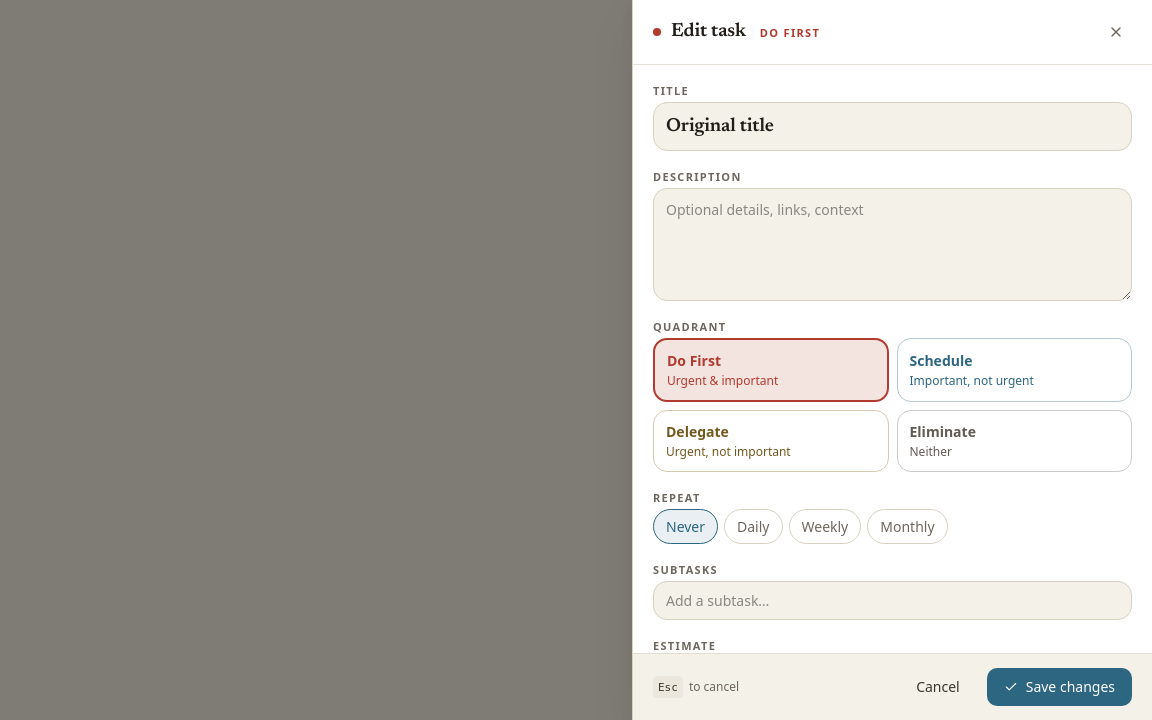
Scenario: <EditDrawer> › dependencies field › should_block_submit_and_show_inline_error_when_dependencies_would_cycle_at_save
This screenshot has width=1152, height=720.
Click the button "Save changes" at [1059, 687], box left=987, top=668, right=1132, bottom=706
(page scrolled)
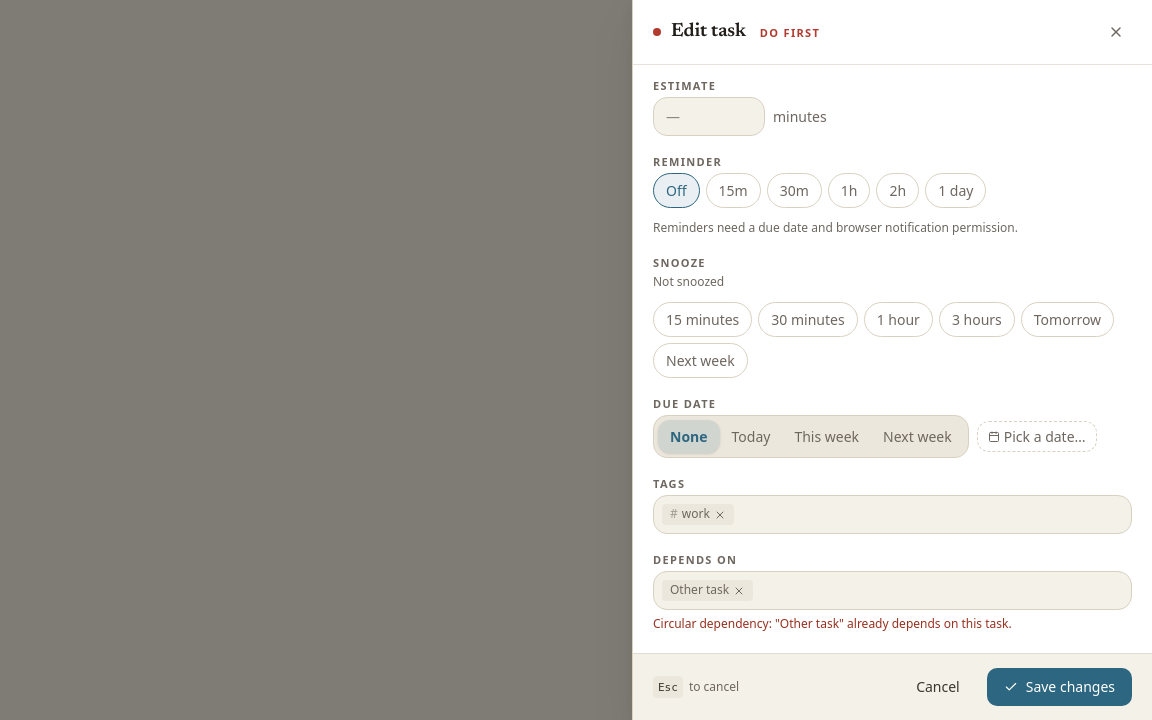
Expected: the message shows "Circular dependency", left=653, top=615, right=1012, bottom=632
